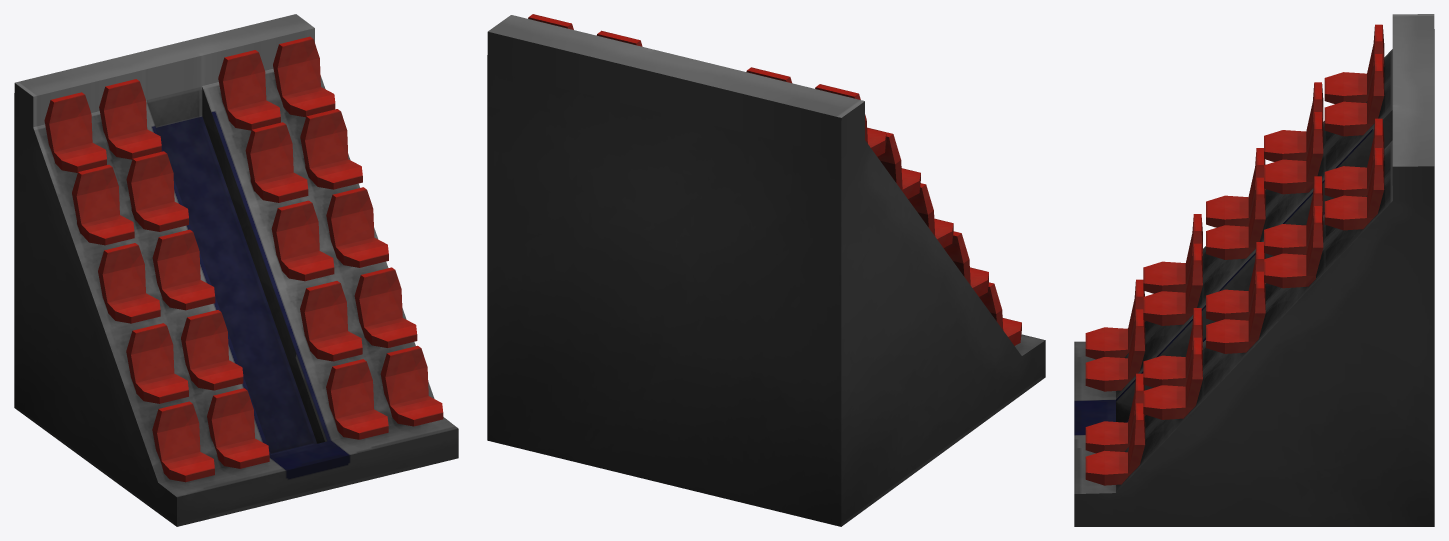
File: gradin.glb
The picture shows the model from 3 angles, left to right: view 1: azimuth 30°, elevation 25°; view 2: azimuth 150°, elevation 25°; view 3: azimuth 270°, elevation 25°; orthographic projection. The views are drawn at different scales.
Visible parts, largest first — view 1: Cube; view 2: Cube; view 3: Cube.
Part boxes in pixels (box(x1,y1,x2,y2)): Cube: box(14, 14, 458, 526); Cube: box(487, 14, 1045, 526); Cube: box(1074, 14, 1434, 526).
Size of the model in its own units: 1 by 1.1 by 1.
Materials: 1 (1 with a texture image).
